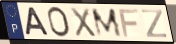A: (25, 7, 51, 37)
F: (117, 8, 140, 38)
M: (90, 8, 124, 38)
O: (47, 6, 72, 38)
X: (69, 7, 98, 39)
Z: (141, 8, 169, 39)
